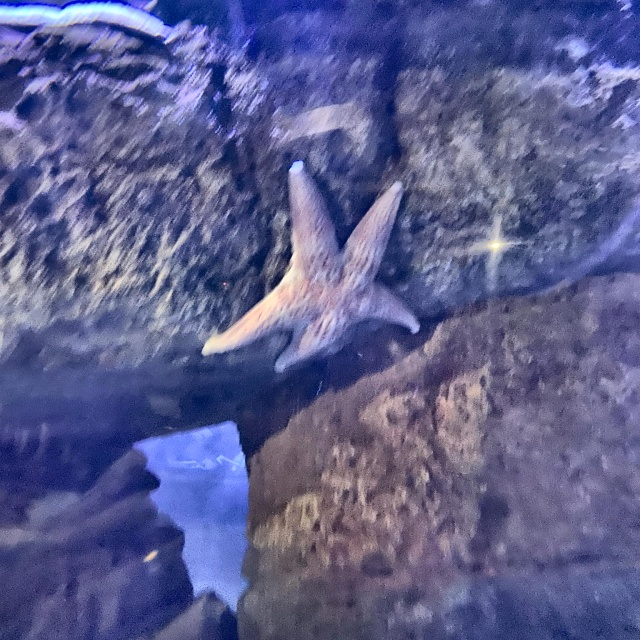starfish: (201, 159, 420, 375)
